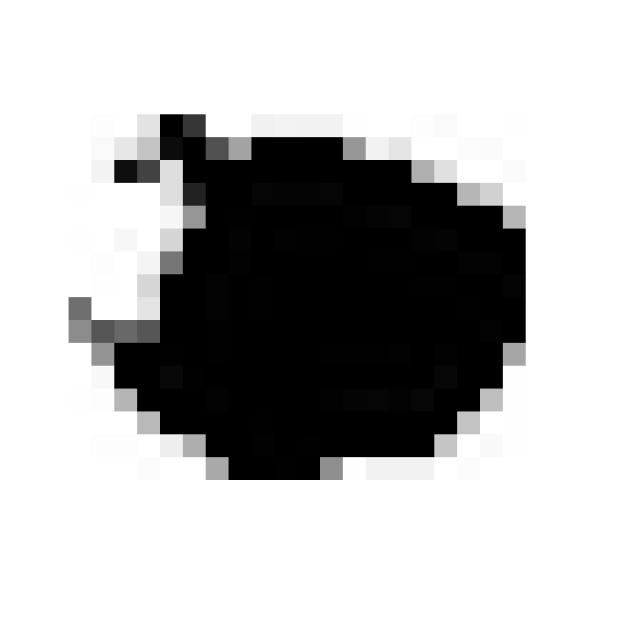0 -zero-: (52, 96, 540, 491)
